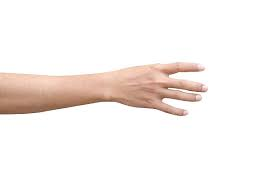hand: (98, 50, 213, 125)
